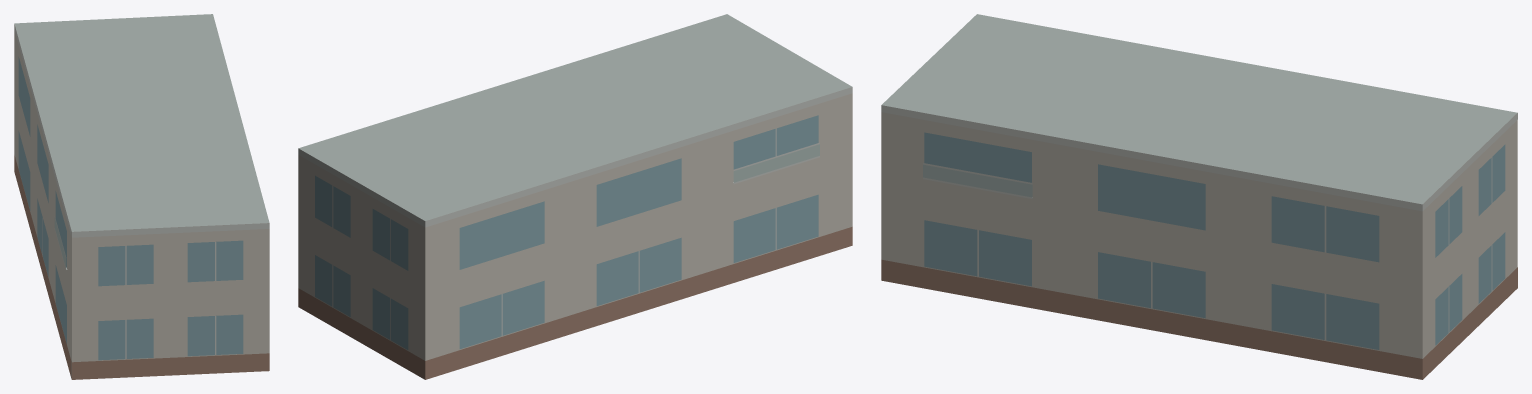
The model's file is survey-upis-32532821.glb.
The picture shows the model from 3 angles, left to right: view 1: azimuth 30°, elevation 25°; view 2: azimuth 150°, elevation 25°; view 3: azimuth 270°, elevation 25°; orthographic projection. The views are drawn at different scales.
Visible parts, largest first — view 1: survey-upis-32532821.tmp; view 2: survey-upis-32532821.tmp; view 3: survey-upis-32532821.tmp.
Part boxes in pixels (x1=…): survey-upis-32532821.tmp: x1=14, y1=14, x2=269, y2=379; survey-upis-32532821.tmp: x1=298, y1=14, x2=852, y2=379; survey-upis-32532821.tmp: x1=881, y1=14, x2=1517, y2=379.
Bounding box in the file's own units: 14.21 × 6.1 × 20.06.
